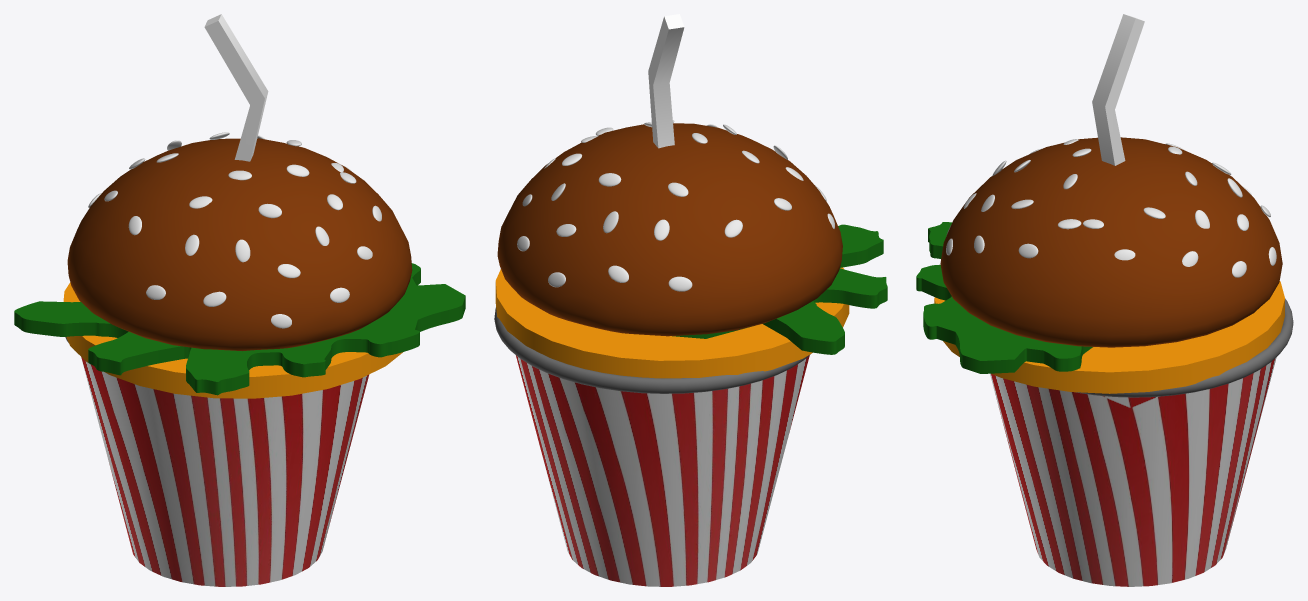
Rendered from PalomitasBurguer.fbx.
The picture shows the model from 3 angles, left to right: view 1: azimuth 30°, elevation 25°; view 2: azimuth 150°, elevation 25°; view 3: azimuth 270°, elevation 25°; orthographic projection.
Parts seen in each view (by area): view 1: Sphere004, Cylinder018, Line001, Cylinder017, Box038; view 2: Sphere004, Cylinder018, Cylinder017, Line001, Torus017, Box038; view 3: Sphere004, Cylinder018, Cylinder017, Line001, Box038, Torus017.
Part boxes in pixels (<box>): Sphere004: <box>67,138,412,351</box>; Cylinder018: <box>81,357,369,586</box>; Line001: <box>14,263,465,395</box>; Cylinder017: <box>63,282,402,398</box>; Box038: <box>204,14,268,161</box>; Sphere004: <box>497,123,842,336</box>; Cylinder018: <box>516,355,809,586</box>; Cylinder017: <box>495,267,849,378</box>; Line001: <box>672,224,887,354</box>; Torus017: <box>494,307,810,393</box>; Box038: <box>648,14,684,148</box>; Sphere004: <box>940,137,1282,347</box>; Cylinder018: <box>990,357,1276,586</box>; Cylinder017: <box>934,281,1284,393</box>; Line001: <box>916,222,1092,373</box>; Box038: <box>1092,14,1144,165</box>; Torus017: <box>1076,298,1293,397</box>.
Bounding box in the file's own units: 11.03 × 15.77 × 10.24.
Materials: 6 (1 with a texture image).
